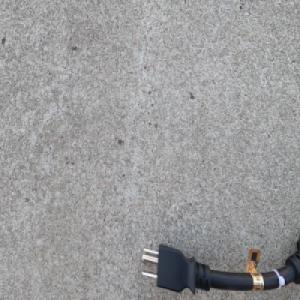Wire: (137, 229, 300, 295)
